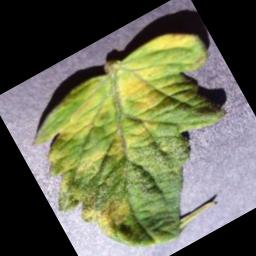Leaf_Mold: (9, 18, 256, 256)
